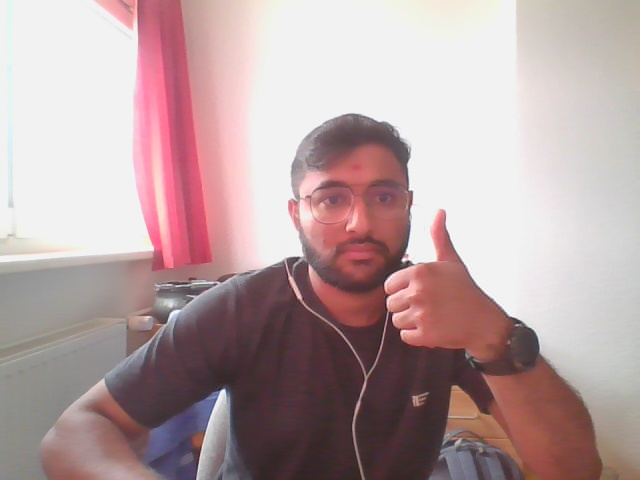ThumbsUp: (383, 209, 485, 355)
